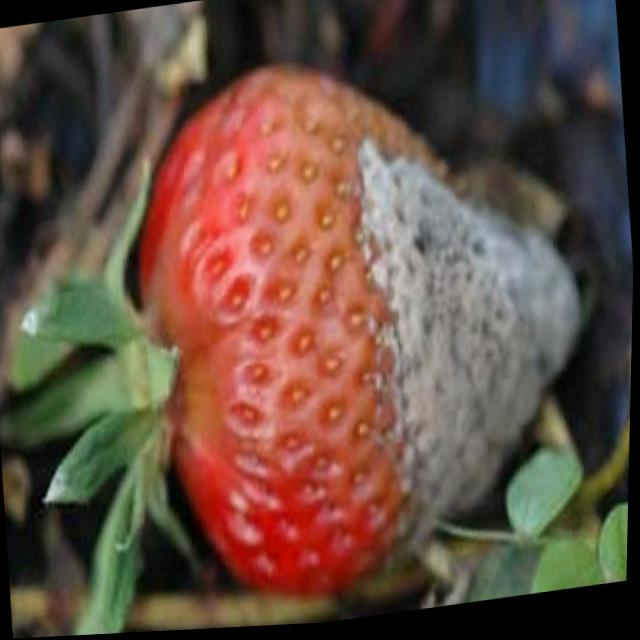Gray Mold: (356, 129, 581, 573)
